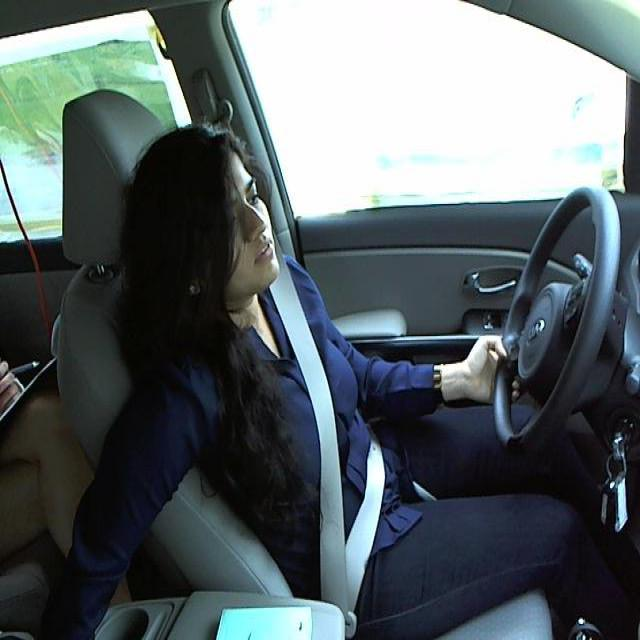seatbelt: (273, 287, 402, 601)
